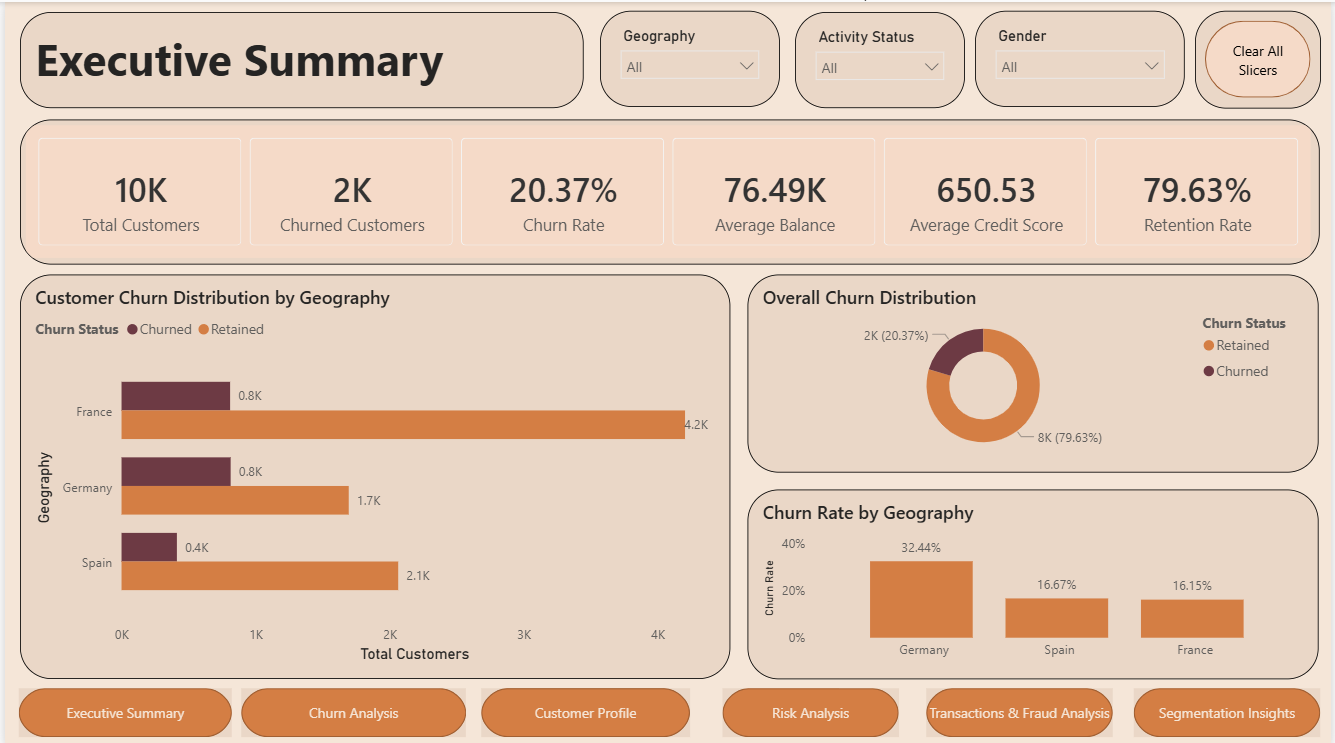

What the dashboard file says about the page in this screenshot:
{"tool":"powerbi","page":{"name":"Executive Summary","canvas":[1280,720],"ordinal":0},"visuals":[{"type":"cardVisual","fields":{"Data":["customers.Total Customers","customers.Churned Customers","customers.Churn Rate","customers.Average Balance","customers.Average Credit Score","customers.Retention Rate"]},"box":[14.3,112.9,1254.3,140],"z":0},{"type":"donutChart","title":"Overall Churn Distribution","fields":{"Category":["customers.Churn Status"],"Y":["customers.Total Customers"]},"box":[717.1,262.9,551.4,191.4],"z":1000},{"type":"clusteredBarChart","title":"Customer Churn Distribution by Geography","fields":{"Category":["customers.Geography"],"Y":["customers.Total Customers"],"Series":["customers.Churn Status"]},"box":[14.3,262.9,685.7,390],"z":2000},{"type":"clusteredColumnChart","fields":{"Y":["customers.Churn Rate"],"Category":["customers.Geography"]},"box":[717.1,470,551.4,182.9],"z":3000},{"type":"slicer","fields":{"Values":["customers.Geography"]},"box":[574.3,8.4,173.7,92.9],"z":4000},{"type":"slicer","fields":{"Values":["customers.Gender"]},"box":[936.2,8.4,202.7,92.9],"z":5000},{"type":"slicer","fields":{"Values":["customers.Activity Status"]},"box":[762.5,9.7,164.1,92.9],"z":6000},{"type":"textbox","box":[14.5,9.7,544.1,92.9],"z":7000},{"type":"shape","box":[12.9,662.9,205.7,47.1],"z":8000},{"type":"shape","box":[228.6,662.9,217.1,47.1],"z":9000},{"type":"shape","box":[460,662.9,201.4,47.1],"z":10000},{"type":"shape","box":[692.9,662.9,170,47.1],"z":11000},{"type":"shape","box":[888.6,662.9,180,47.1],"z":12000},{"type":"shape","box":[1090,662.9,180,47.1],"z":13000},{"type":"shape","box":[1148.5,8.4,121.9,94.1],"z":13001}]}

Visuals, with their boxes in screenshot pixels (x1, y1, x2, y2), scaled from the page's 1280x720 canvas onto the 1335x743 screenshot:
cardVisual - customers.Total Customers x customers.Churned Customers: select_region(15, 117, 1323, 261)
"Overall Churn Distribution" donutChart: select_region(748, 271, 1323, 469)
"Customer Churn Distribution by Geography" clusteredBarChart: select_region(15, 271, 730, 674)
clusteredColumnChart - customers.Churn Rate x customers.Geography: select_region(748, 485, 1323, 674)
slicer - customers.Geography: select_region(599, 9, 780, 105)
slicer - customers.Gender: select_region(976, 9, 1188, 105)
slicer - customers.Activity Status: select_region(795, 10, 966, 106)
textbox: select_region(15, 10, 583, 106)
shape: select_region(13, 684, 228, 733)
shape: select_region(238, 684, 465, 733)
shape: select_region(480, 684, 690, 733)
shape: select_region(723, 684, 900, 733)
shape: select_region(927, 684, 1115, 733)
shape: select_region(1137, 684, 1325, 733)
shape: select_region(1198, 9, 1325, 106)
